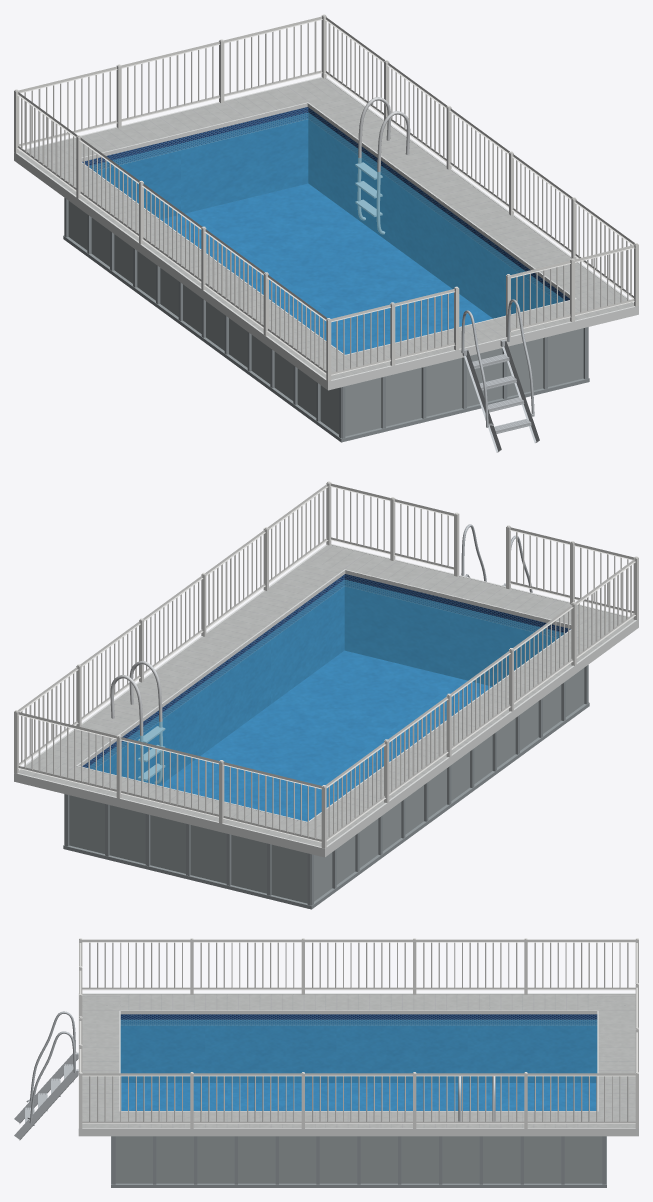
The model's file is kayak-pool-12x24-gray-walk-ag-fence.a8368c1de9.glb.
The picture shows the model from 3 angles, top to bottom: view 1: azimuth 30°, elevation 25°; view 2: azimuth 150°, elevation 25°; view 3: azimuth 270°, elevation 25°; orthographic projection. The views are drawn at different scales.
Visible parts, largest first — view 1: water, fence, liner_wall, deck, liner_floor, wall, fascia, upright, ladder, steel; view 2: water, fence, liner_wall, deck, liner_floor, wall, fascia, upright, steel, ladder; view 3: water, liner_wall, deck, fence, wall, liner_floor, fascia, upright, ladder.
Part boxes in pixels (bbox=[...]): water: bbox=[89, 112, 565, 354]; fence: bbox=[14, 14, 638, 381]; liner_wall: bbox=[82, 107, 569, 318]; deck: bbox=[18, 78, 633, 379]; liner_floor: bbox=[161, 183, 492, 354]; wall: bbox=[68, 201, 583, 436]; fascia: bbox=[14, 77, 638, 390]; upright: bbox=[63, 198, 589, 442]; ladder: bbox=[461, 299, 539, 452]; steel: bbox=[355, 97, 410, 234]; water: bbox=[87, 579, 563, 821]; fence: bbox=[14, 481, 638, 848]; liner_wall: bbox=[82, 574, 570, 785]; deck: bbox=[19, 545, 634, 846]; liner_floor: bbox=[160, 650, 491, 821]; wall: bbox=[69, 668, 584, 903]; fascia: bbox=[14, 544, 638, 857]; upright: bbox=[63, 665, 589, 909]; steel: bbox=[110, 661, 165, 784]; ladder: bbox=[461, 524, 532, 592]; water: bbox=[120, 1019, 597, 1110]; liner_wall: bbox=[120, 1014, 597, 1082]; deck: bbox=[82, 994, 635, 1127]; fence: bbox=[79, 938, 638, 1128]; wall: bbox=[115, 1136, 602, 1183]; liner_floor: bbox=[121, 1083, 596, 1110]; fascia: bbox=[78, 993, 638, 1136]; upright: bbox=[111, 1136, 606, 1187]; ladder: bbox=[14, 1011, 78, 1140].
Bounding box in the file's own units: 4.88 × 2.15 × 9.52.
Materials: 11 (3 with a texture image).
